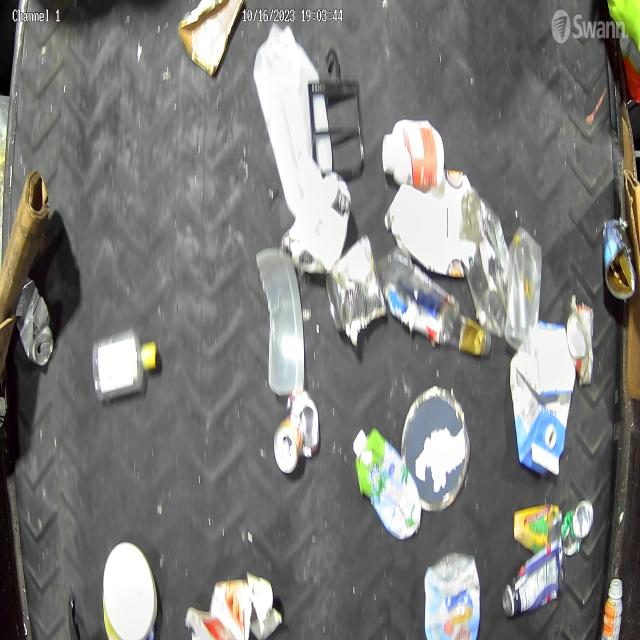can: (282, 172, 352, 276), (326, 235, 385, 337), (273, 391, 321, 476), (15, 276, 55, 368), (567, 299, 595, 383), (572, 498, 594, 540), (563, 509, 582, 555)
milk_jug: (252, 20, 334, 219), (510, 321, 576, 477), (384, 171, 478, 278)
non_white_jug: (352, 426, 422, 540)
plastic_bottle: (376, 248, 494, 357), (92, 325, 160, 406)
